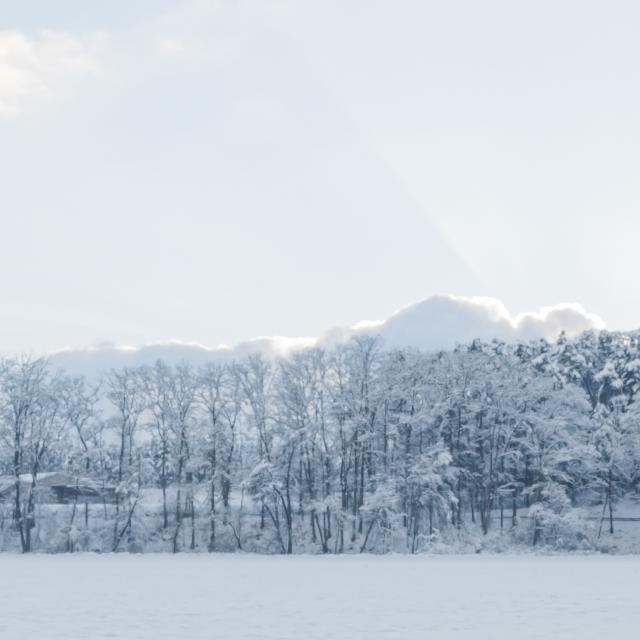Airaplan: (458, 466, 467, 477)
